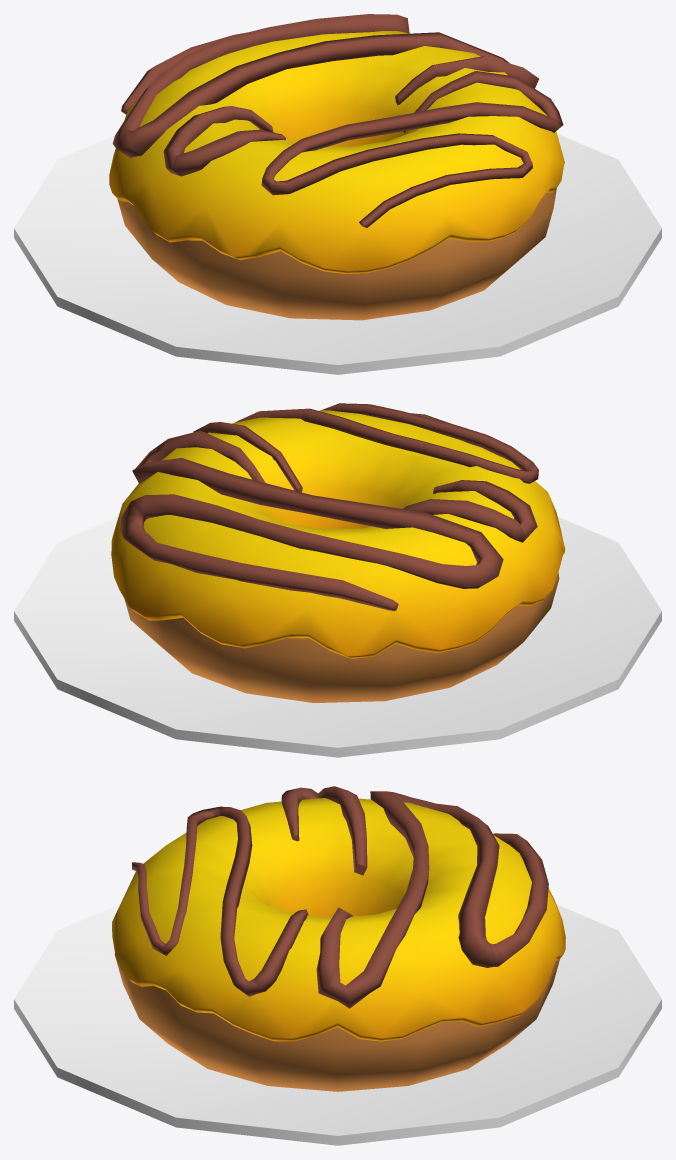
Rendered from DonutEgg.fbx.
The picture shows the model from 3 angles, top to bottom: view 1: azimuth 30°, elevation 25°; view 2: azimuth 150°, elevation 25°; view 3: azimuth 270°, elevation 25°; orthographic projection.
Parts seen in each view (by area): view 1: Map02_Donut_LV2; view 2: Map02_Donut_LV2; view 3: Map02_Donut_LV2.
Part boxes in pixels (box(x1,y1,x2,y2)): Map02_Donut_LV2: box(14, 14, 661, 374); Map02_Donut_LV2: box(14, 403, 661, 757); Map02_Donut_LV2: box(14, 786, 661, 1145).
Bounding box in the file's own units: 105 × 35.85 × 105.
